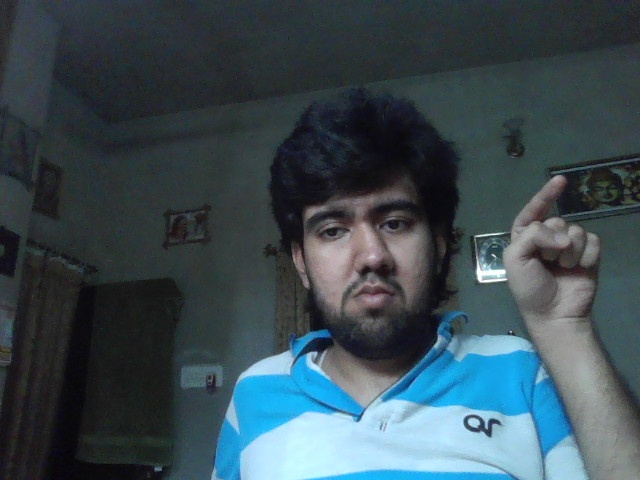You: (502, 175, 601, 317)
